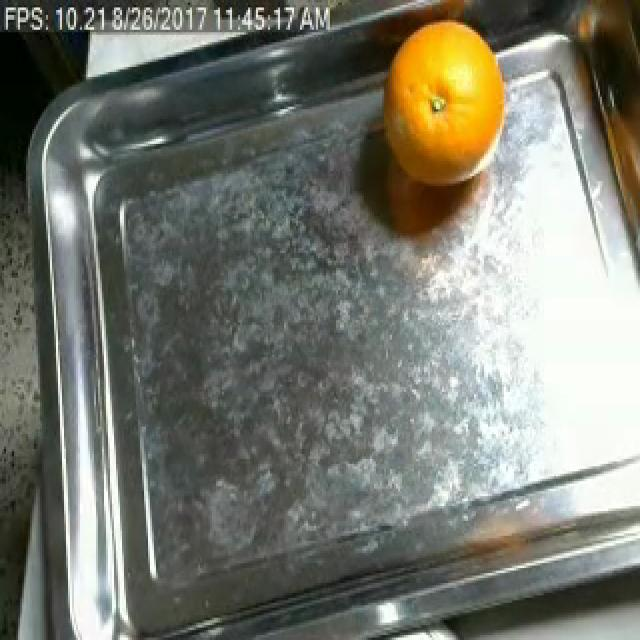Fruit: (358, 2, 528, 206)
